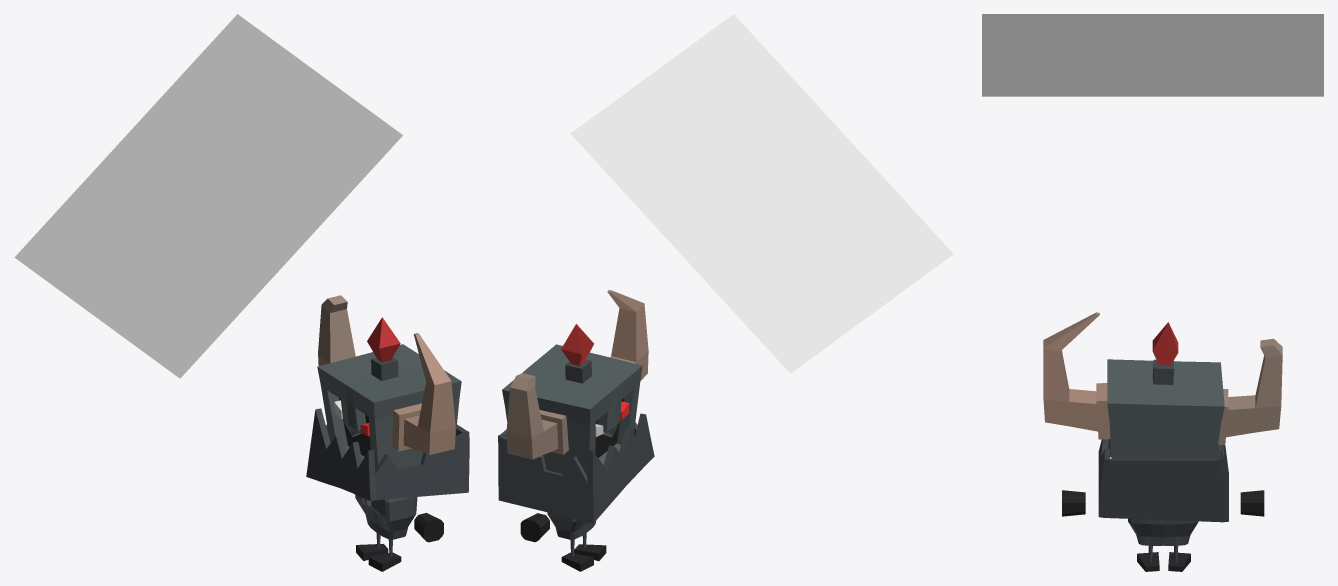
The model's file is Enemy.fbx.
3 renders of one model, left to right at view 1: azimuth 30°, elevation 25°; view 2: azimuth 150°, elevation 25°; view 3: azimuth 270°, elevation 25°, orthographic. The views are drawn at different scales.
Parts seen in each view (by area): view 1: Plane.003, Plane, Plane.001, Cube.006, Cube.007, Plane.002, Cube.003, Cube.009; view 2: Plane.003, Plane.001, Plane, Cube.007, Cube.006, Plane.002, Cube.003, Cube.010; view 3: Plane.003, Plane, Plane.001, Cube.006, Cube.007, Plane.002, Cube.003, Cube.010, Cube.009, Cube.002.
Part boxes in pixels (x1=…): Plane.003: x1=14, y1=14, x2=402, y2=378; Plane: x1=317, y1=344, x2=461, y2=469; Plane.001: x1=306, y1=408, x2=469, y2=500; Cube.006: x1=392, y1=333, x2=455, y2=454; Cube.007: x1=318, y1=295, x2=355, y2=365; Plane.002: x1=355, y1=494, x2=417, y2=556; Cube.003: x1=367, y1=317, x2=400, y2=362; Cube.009: x1=414, y1=513, x2=443, y2=542; Plane.003: x1=570, y1=14, x2=953, y2=373; Plane.001: x1=498, y1=413, x2=654, y2=523; Plane: x1=502, y1=344, x2=642, y2=475; Cube.007: x1=506, y1=373, x2=568, y2=459; Cube.006: x1=607, y1=290, x2=648, y2=380; Plane.002: x1=547, y1=512, x2=595, y2=556; Cube.003: x1=561, y1=324, x2=593, y2=365; Cube.010: x1=520, y1=513, x2=549, y2=542; Plane.003: x1=982, y1=14, x2=1323, y2=96; Plane: x1=1107, y1=359, x2=1224, y2=458; Plane.001: x1=1098, y1=439, x2=1228, y2=522; Cube.006: x1=1043, y1=312, x2=1110, y2=439; Cube.007: x1=1218, y1=338, x2=1282, y2=445; Plane.002: x1=1128, y1=519, x2=1198, y2=562; Cube.003: x1=1152, y1=322, x2=1178, y2=366; Cube.010: x1=1240, y1=490, x2=1264, y2=516; Cube.009: x1=1062, y1=490, x2=1085, y2=516; Cube.002: x1=1152, y1=359, x2=1174, y2=384.
Size of the model in its own units: 243 by 336 by 200.
